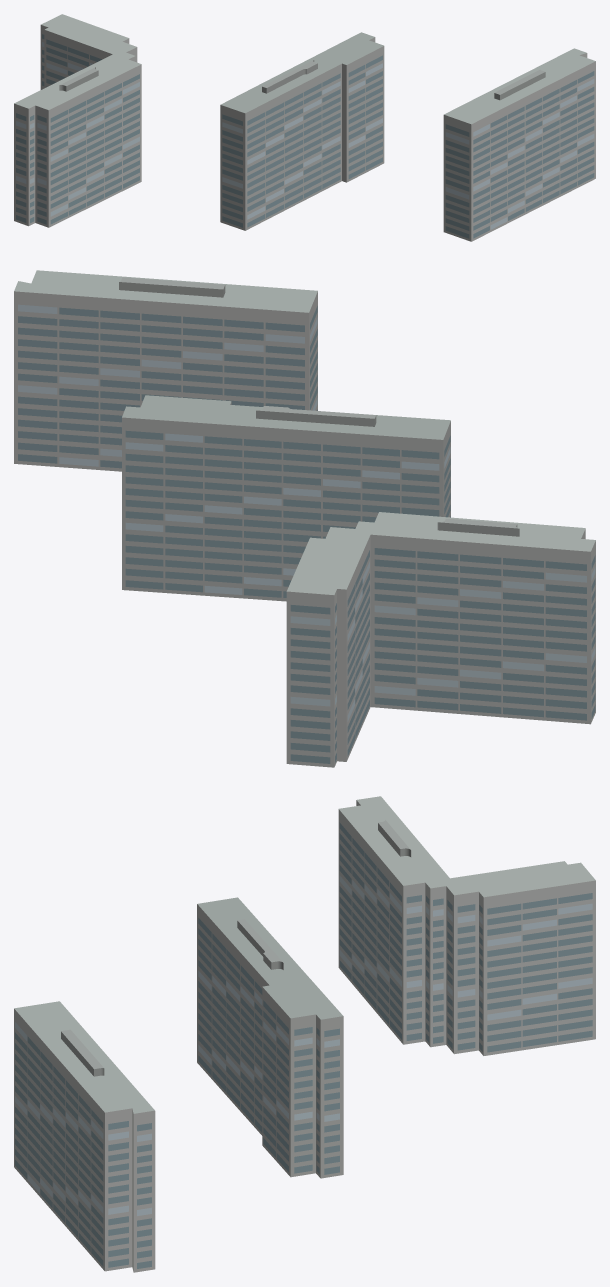
File: apt-a13980509.glb
3 renders of one model, top to bottom at view 1: azimuth 30°, elevation 25°; view 2: azimuth 150°, elevation 25°; view 3: azimuth 270°, elevation 25°, orthographic. The views are drawn at different scales.
Visible parts, largest first — view 1: apt-a13980509; view 2: apt-a13980509; view 3: apt-a13980509.
Boxes of the visible parts, x1=… form: apt-a13980509: x1=14, y1=14, x2=595, y2=241; apt-a13980509: x1=14, y1=270, x2=595, y2=767; apt-a13980509: x1=14, y1=796, x2=595, y2=1272.
Size of the model in its own units: 168 by 41 by 130.
